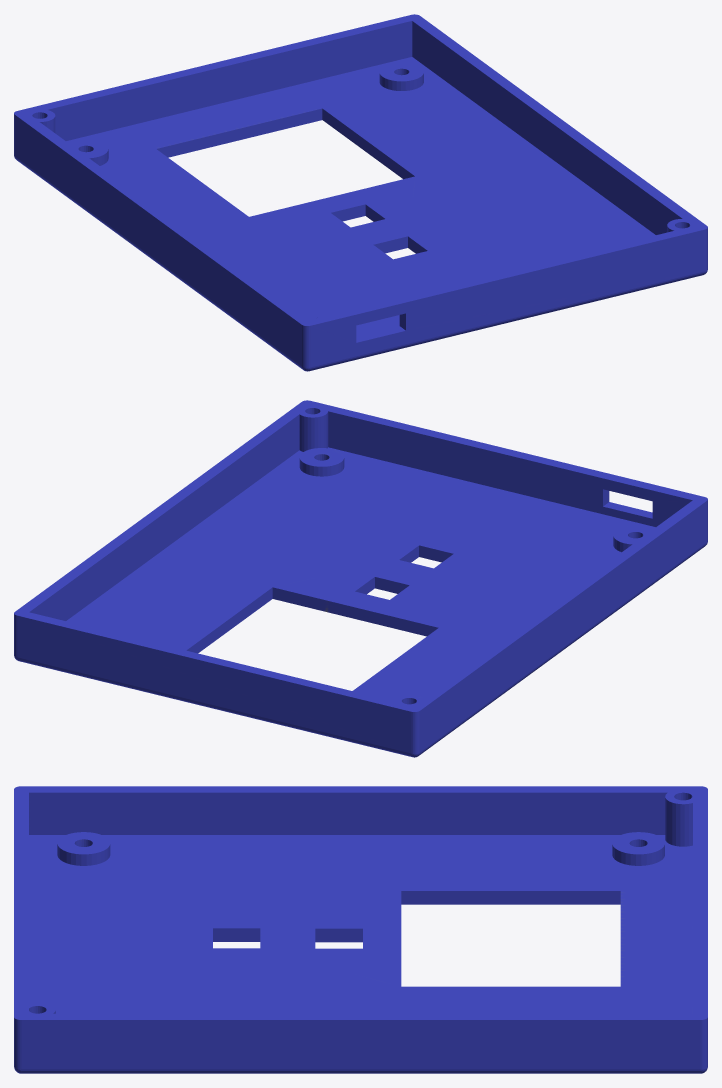
File: top.glb
3 views of the same model, one above another, from view 1: azimuth 30°, elevation 25°; view 2: azimuth 150°, elevation 25°; view 3: azimuth 270°, elevation 25° (orthographic). The views are drawn at different scales.
Parts seen in each view (by area): view 1: node_id3; view 2: node_id3; view 3: node_id3.
Boxes of the visible parts, bbox=[...] form: node_id3: bbox=[14, 14, 707, 371]; node_id3: bbox=[14, 400, 707, 757]; node_id3: bbox=[14, 786, 707, 1073].
Bounding box in the file's own units: 0.512 × 0.0574 × 0.6421.
Materials: 1 (1 with a texture image).
